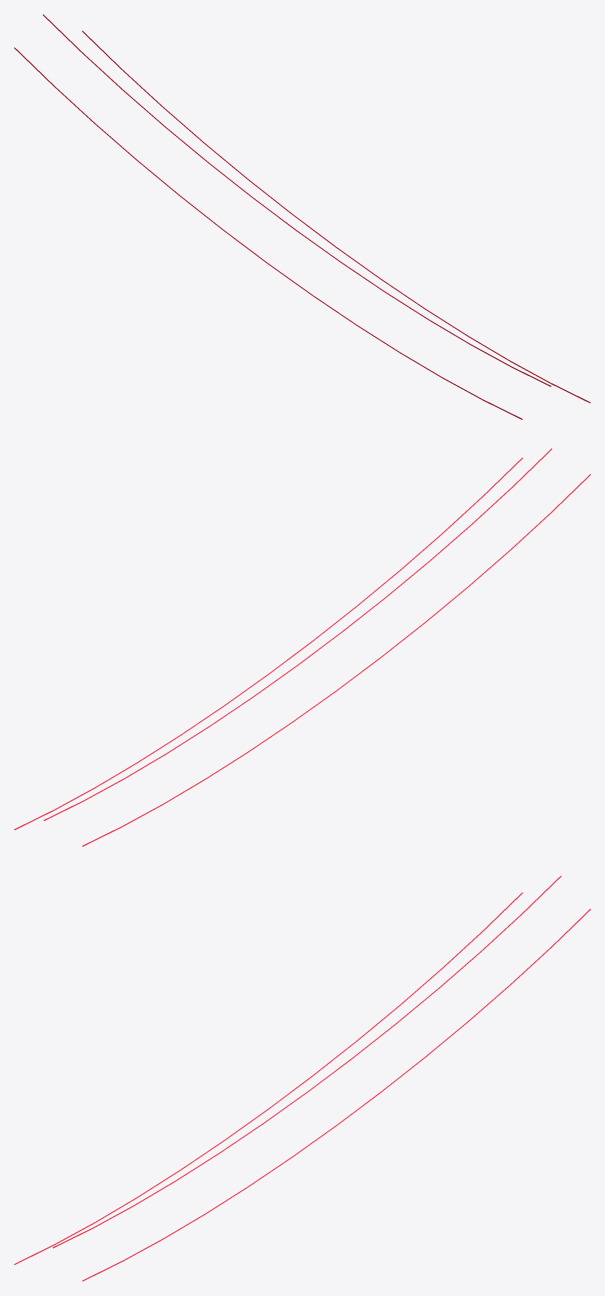
File: SM_Pole_Electric_Wire_20m_Tri.fbx
3 renders of one model, top to bottom at view 1: azimuth 30°, elevation 25°; view 2: azimuth 150°, elevation 25°; view 3: azimuth 330°, elevation 25°, orthographic.
Parts seen in each view (by area): view 1: pole-electric-wire-20m-tri; view 2: pole-electric-wire-20m-tri; view 3: pole-electric-wire-20m-tri.
Part boxes in pixels (x1=…): pole-electric-wire-20m-tri: x1=14, y1=14, x2=590, y2=419; pole-electric-wire-20m-tri: x1=14, y1=448, x2=590, y2=846; pole-electric-wire-20m-tri: x1=14, y1=876, x2=590, y2=1281.
Bounding box in the file's own units: 1.57 × 1.14 × 20.2.
